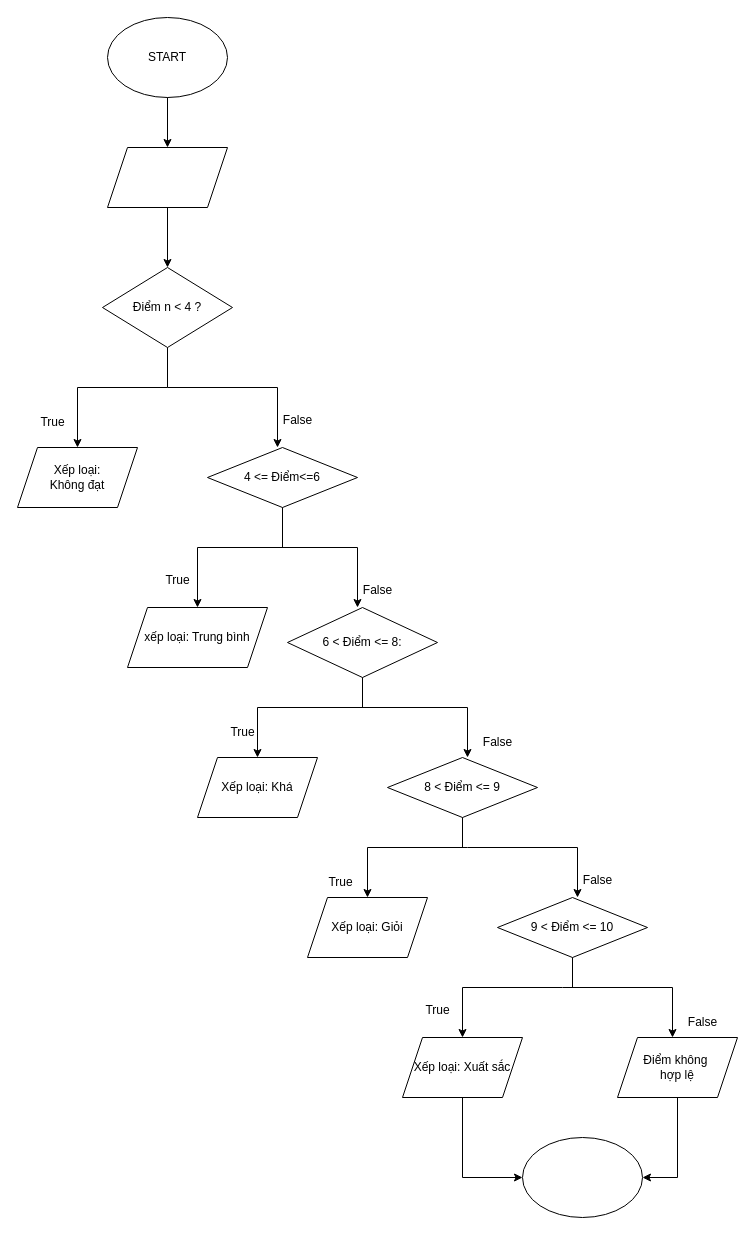
The diagram is 755 pixels wide and 1235 high, and some of its shapes have lost their labels. The shapes that lost their labels are listed below. From the top down, each one's centre as x and y in pixels, then its label:
At (x=167, y=177): "Nhập điểm số n".
At (x=582, y=1177): "END".
